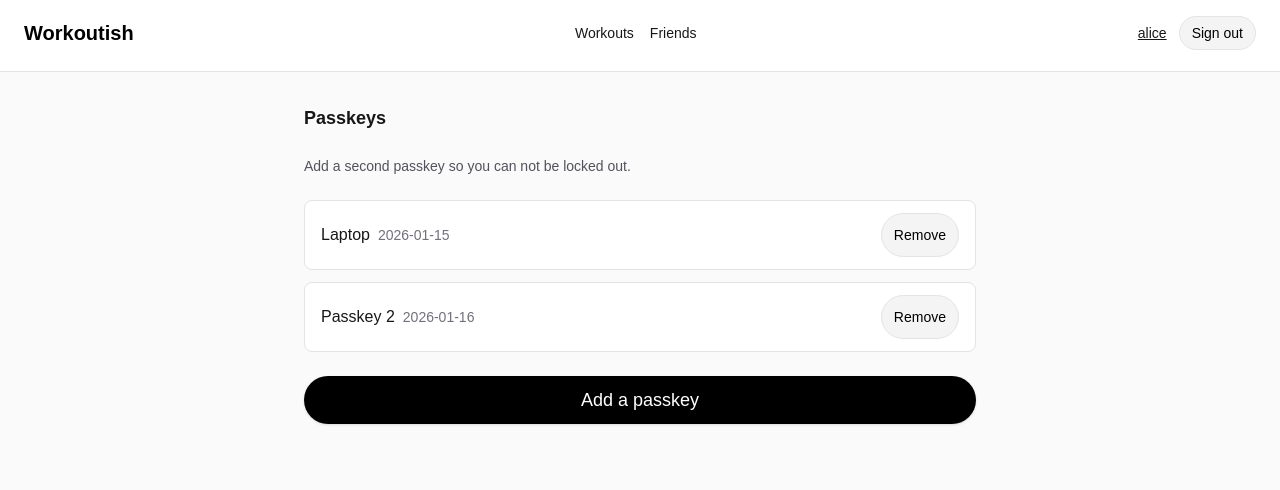
Test: shows the last-passkey message and keeps the list
The width and height of the screenshot is (1280, 490).
Click the button with aria-label "Remove Laptop".
click(920, 235)  # box [881, 213, 959, 257]
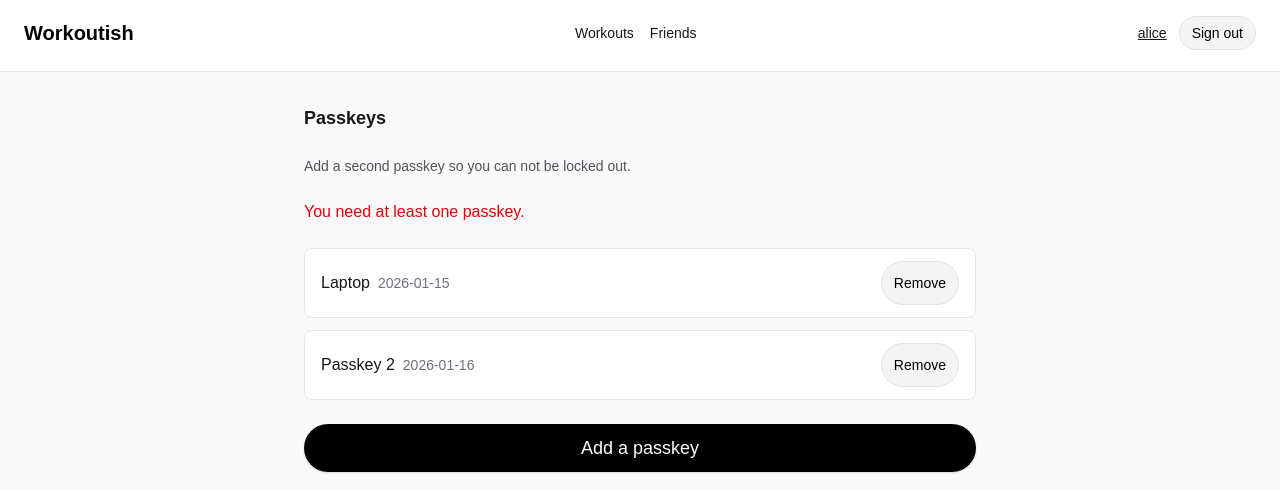
expect the text "Laptop2026-01-15" is shown: met, box [321, 271, 450, 295]
expect the message reads "You need at least one passkey.": met, box [304, 203, 525, 220]
